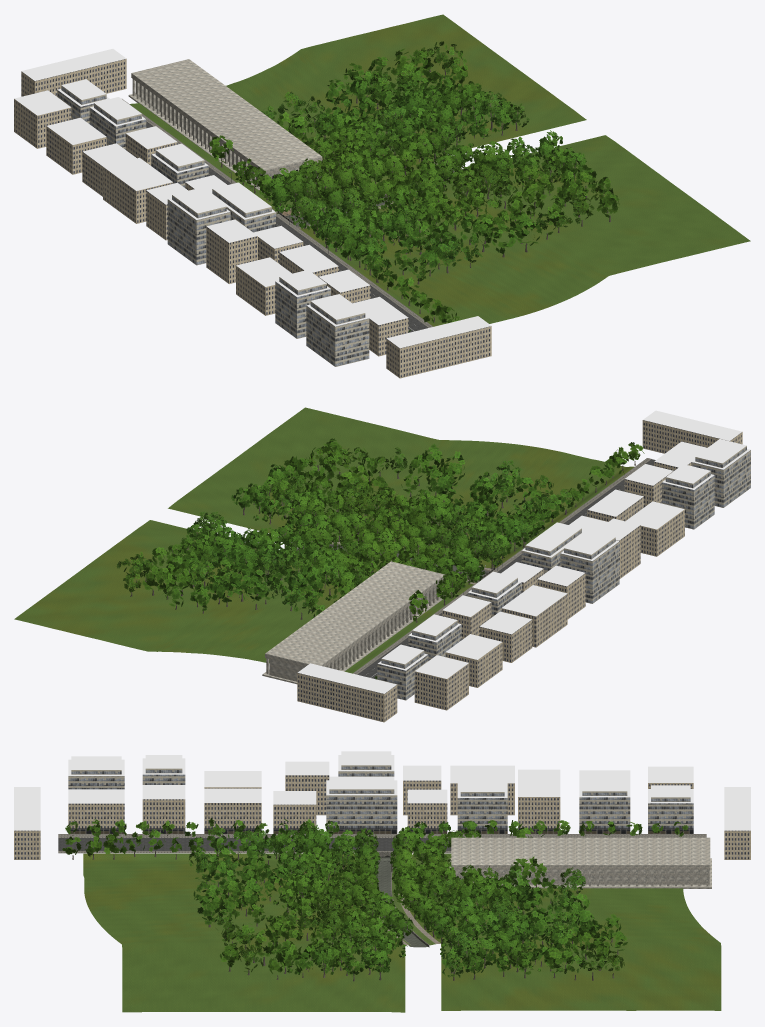
Rendered from eisbach_wave_munich_draco.glb.
3 views of the same model, one above another, from view 1: azimuth 30°, elevation 25°; view 2: azimuth 150°, elevation 25°; view 3: azimuth 270°, elevation 25° (orthographic). The views are drawn at different scales.
Visible parts, largest first — view 1: Terrain_Park, Trees_Leaves, City_Backdrop, Haus_der_Kunst, Road_Prinzregentenstrasse, Trees_Wood; view 2: Terrain_Park, Trees_Leaves, City_Backdrop, Haus_der_Kunst, Road_Prinzregentenstrasse, Trees_Wood; view 3: Terrain_Park, Trees_Leaves, City_Backdrop, Haus_der_Kunst, Road_Prinzregentenstrasse, Trees_Wood, Channel_Bed, Bank_West.
Part boxes in pixels (x1,y1,x2,y2): Terrain_Park: (130,14,750,326); Trees_Leaves: (209,41,619,331); City_Backdrop: (14,49,491,378); Haus_der_Kunst: (128,59,322,192); Road_Prinzregentenstrasse: (122,99,433,332); Trees_Wood: (221,69,610,322); Terrain_Park: (14,407,634,673); Trees_Leaves: (116,438,644,679); City_Backdrop: (297,410,750,722); Haus_der_Kunst: (262,561,445,684); Road_Prinzregentenstrasse: (353,458,655,678); Trees_Wood: (130,461,635,622); Terrain_Park: (83,853,721,1012); Trees_Leaves: (62,818,688,977); City_Backdrop: (14,751,750,859); Haus_der_Kunst: (449,837,711,888); Road_Prinzregentenstrasse: (58,834,706,853); Trees_Wood: (72,826,656,981); Channel_Bed: (374,856,427,947); Bank_West: (391,854,440,947).
Size of the model in its own units: 340 by 41.2 by 500.
22 materials, 17 textured.
